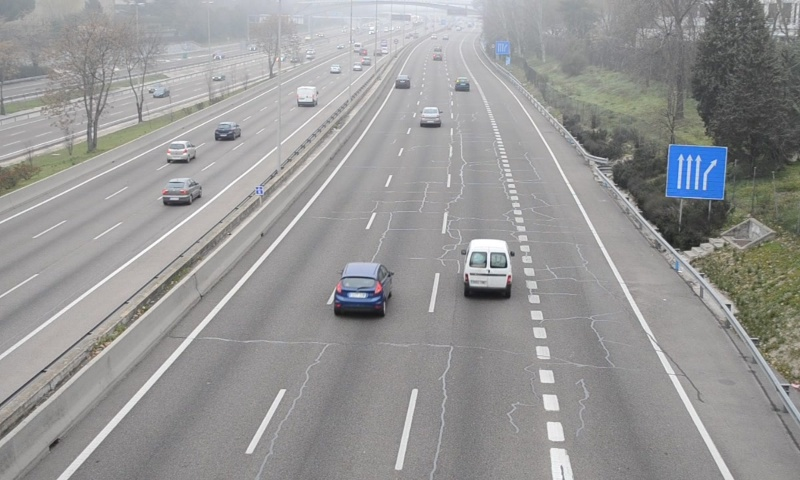car: (336, 262, 392, 312), (419, 106, 440, 126), (394, 74, 411, 90), (454, 77, 469, 91)
van: (463, 239, 511, 297)
